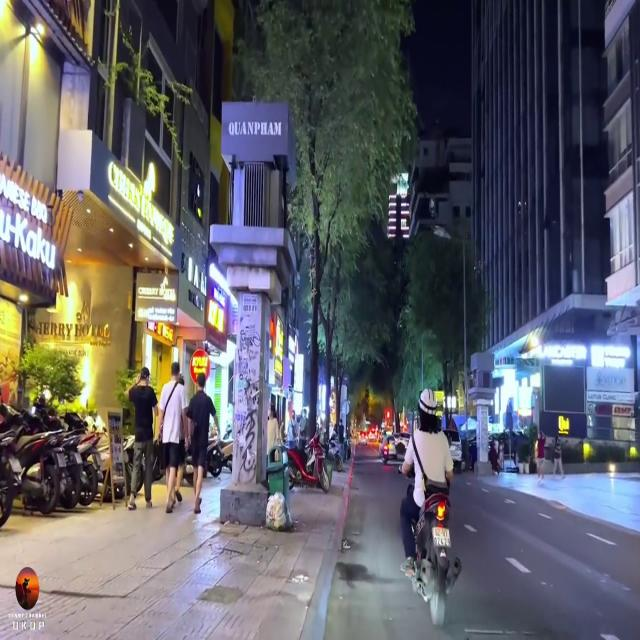bien_trang: (432, 523, 452, 552)
